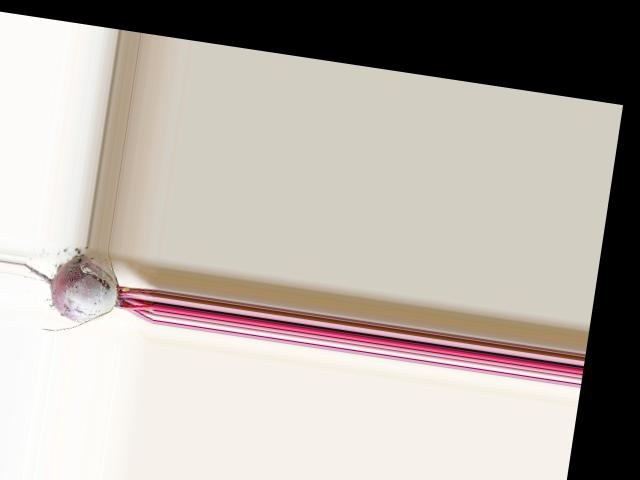beet: (14, 246, 160, 345)
